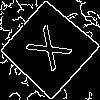X: (24, 24, 81, 80)
